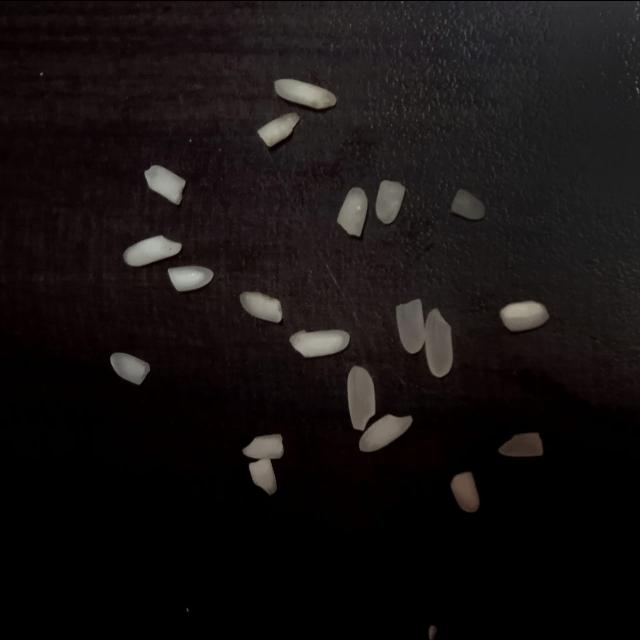Broken: (144, 164, 186, 204), (396, 298, 426, 352), (336, 186, 368, 236), (500, 300, 550, 330), (256, 112, 300, 146), (240, 290, 282, 322), (110, 351, 150, 384), (376, 179, 405, 223), (450, 470, 480, 510), (168, 264, 214, 290), (248, 456, 276, 494), (499, 432, 543, 456), (242, 433, 284, 458), (451, 188, 485, 218)
Full: (358, 413, 412, 451), (122, 234, 182, 266), (274, 78, 336, 108), (348, 364, 376, 430), (426, 307, 452, 376), (290, 329, 350, 356)
